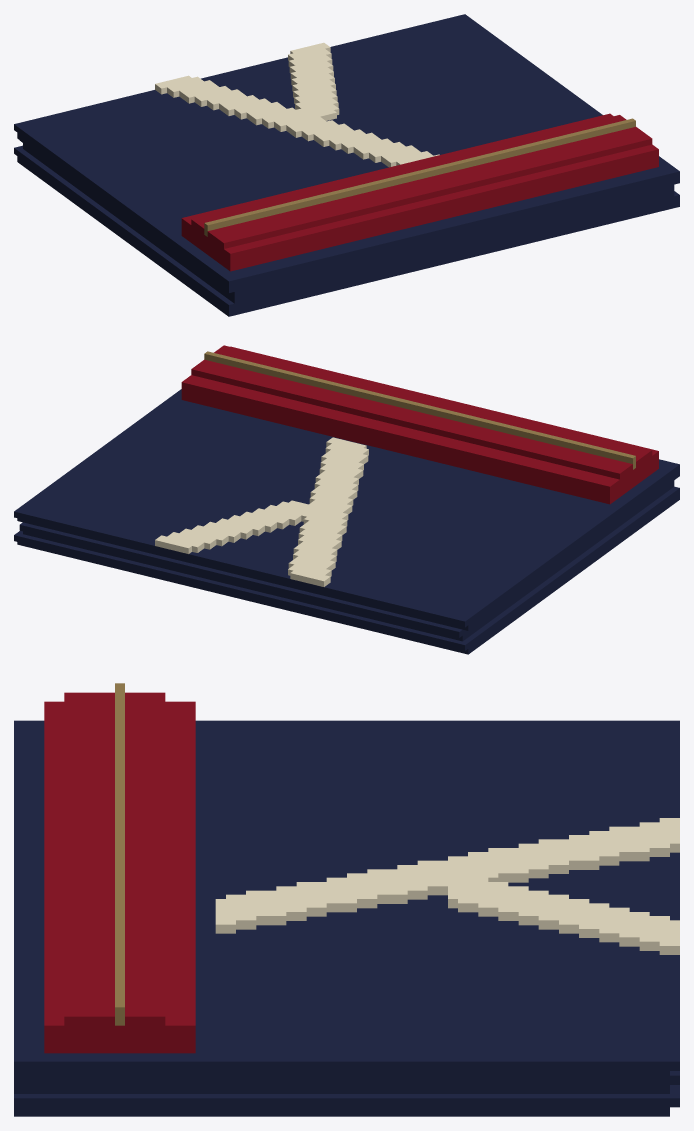
Rendered from yukata.glb.
The picture shows the model from 3 angles, top to bottom: view 1: azimuth 30°, elevation 25°; view 2: azimuth 150°, elevation 25°; view 3: azimuth 270°, elevation 25°; orthographic projection. The views are drawn at different scales.
Parts seen in each view (by area): view 1: yukata:compound; view 2: yukata:compound; view 3: yukata:compound.
Boxes of the visible parts, x1=… form: yukata:compound: x1=14, y1=14, x2=679, y2=316; yukata:compound: x1=14, y1=345, x2=679, y2=654; yukata:compound: x1=14, y1=683, x2=679, y2=1116.
Size of the model in its own units: 0.32 by 0.044 by 0.264.
